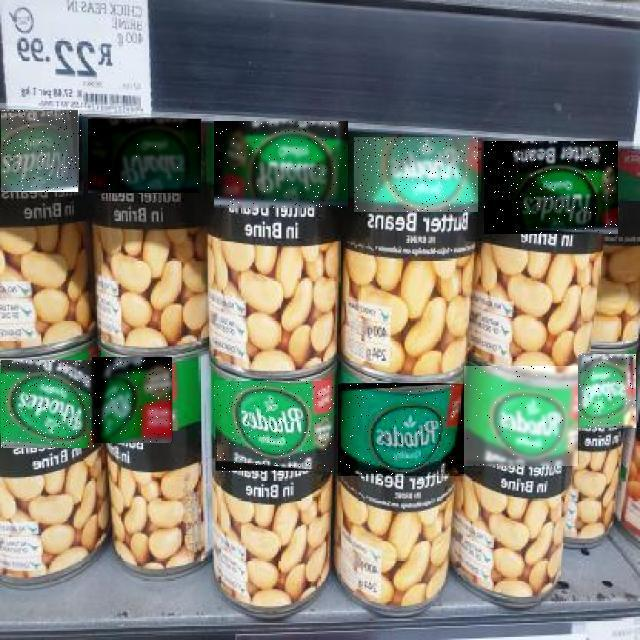Beans: (484, 141, 618, 234), (214, 122, 348, 210), (338, 384, 464, 476), (465, 366, 579, 466), (214, 380, 334, 472), (354, 137, 478, 212), (88, 119, 201, 193), (1, 360, 94, 448), (93, 357, 173, 443), (2, 111, 82, 193), (578, 354, 636, 428)
